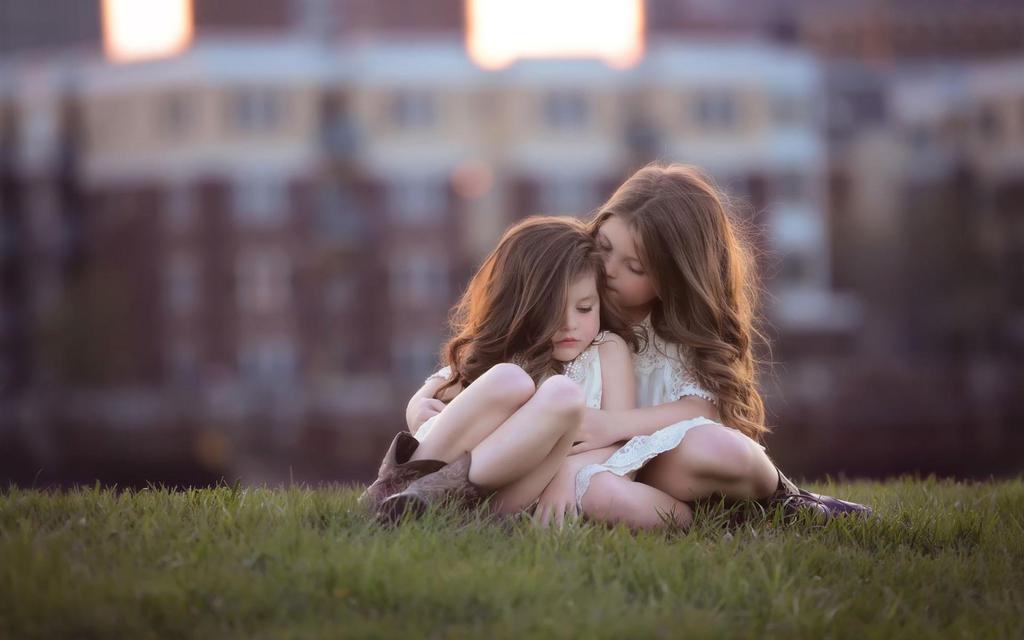child: (550, 151, 883, 552), (391, 196, 615, 542)
